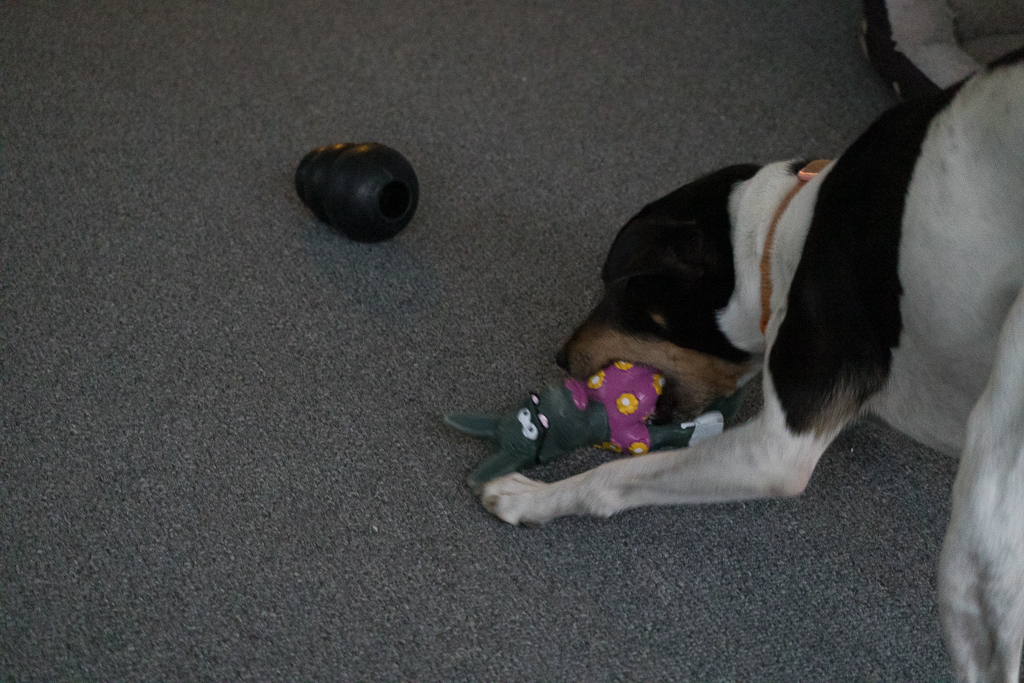Dog: (469, 36, 1024, 683)
Humanoid: (440, 340, 770, 499)
